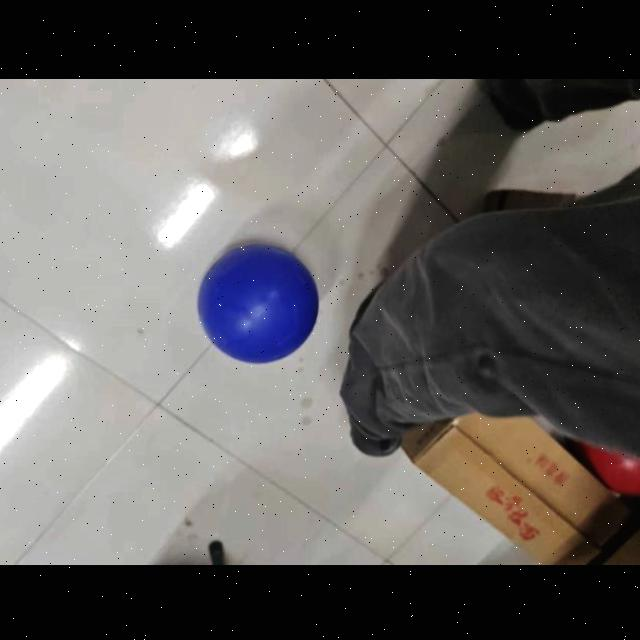B: (195, 240, 322, 366)
